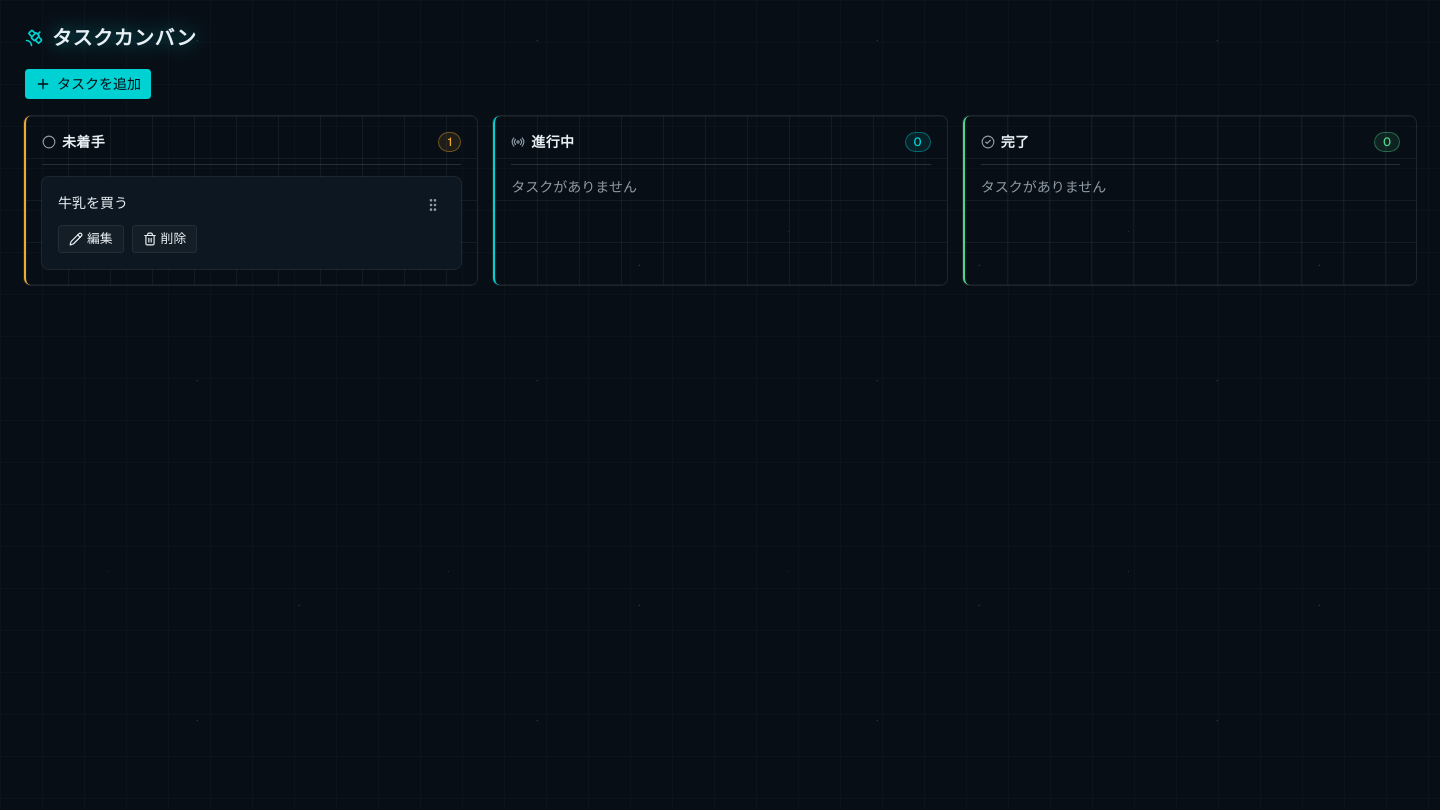
Test: タスクの編集 › 編集フォームでキャンセルを押すとフォームが閉じる
Check: the text "牛乳を買う" is shown, box x1=58 y1=193 x2=128 y2=213
Click the button "編集". click: (91, 239)
box: x1=58 y1=225 x2=124 y2=253
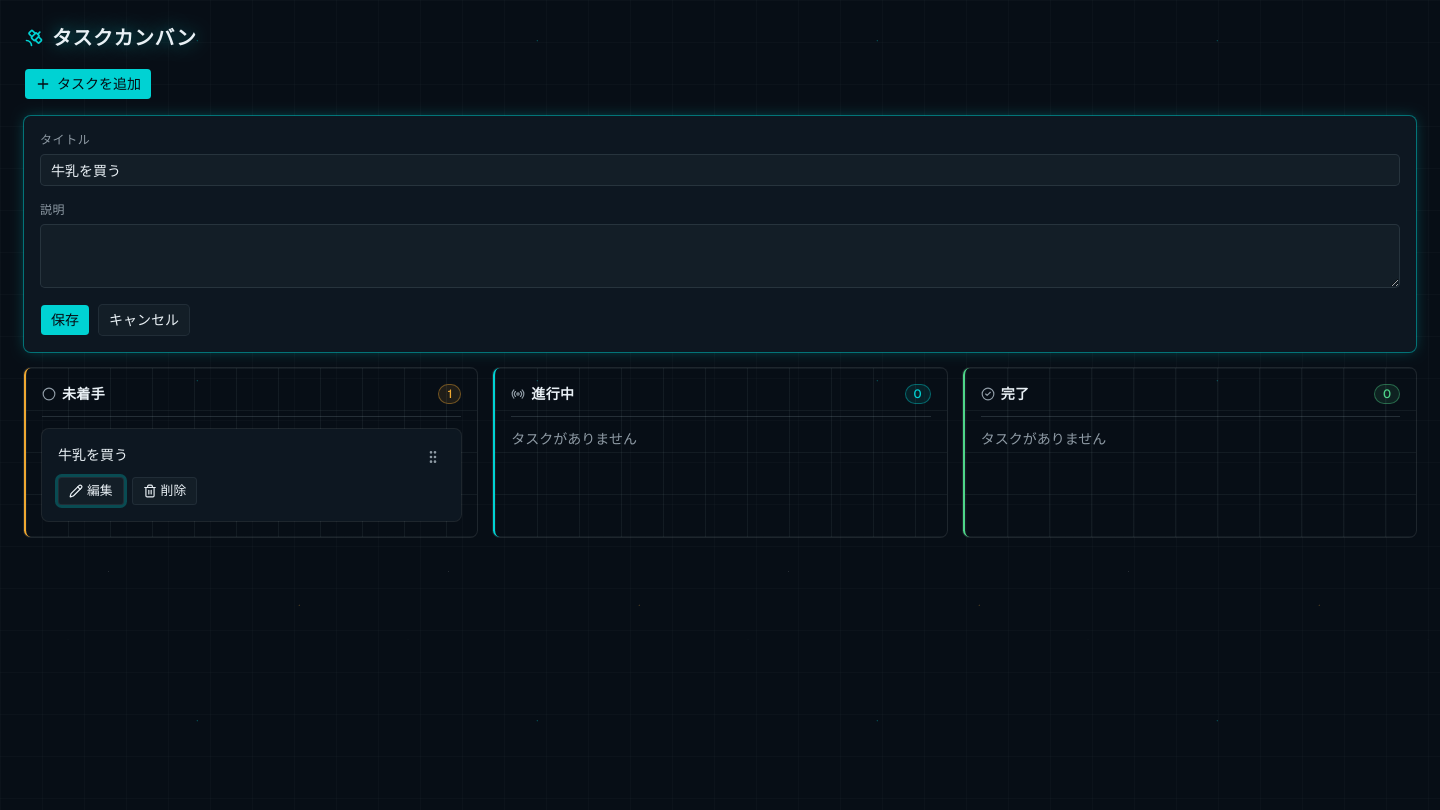
Click the button "キャンセル". click: (144, 320)
box: x1=98 y1=304 x2=190 y2=336
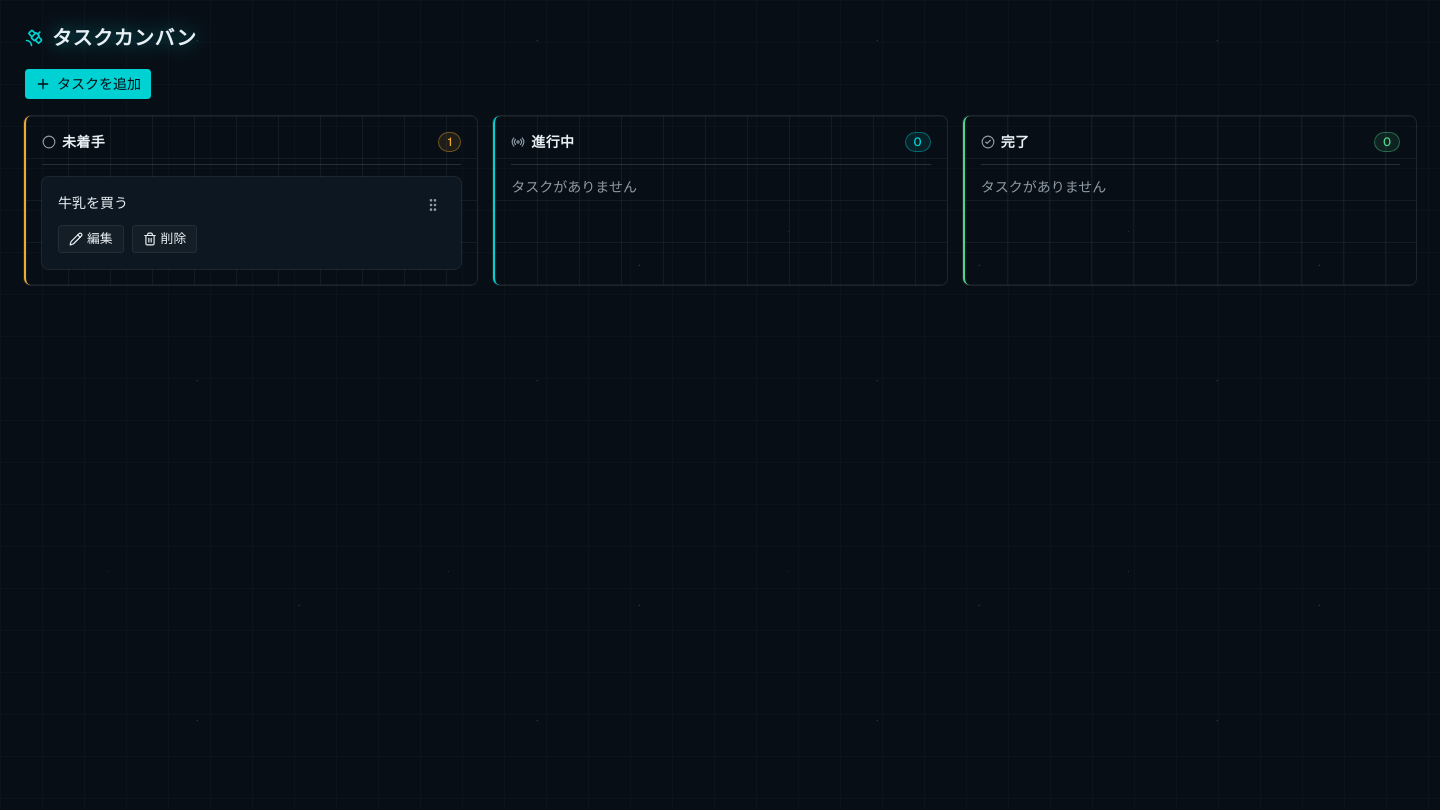
Check: the button "保存" is gone
